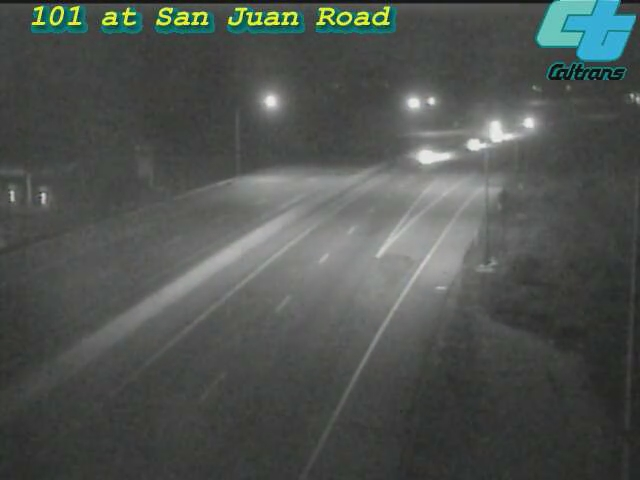vehicle: (474, 101, 524, 151), (503, 96, 553, 146), (471, 112, 521, 162), (448, 120, 498, 170), (403, 130, 453, 180)
